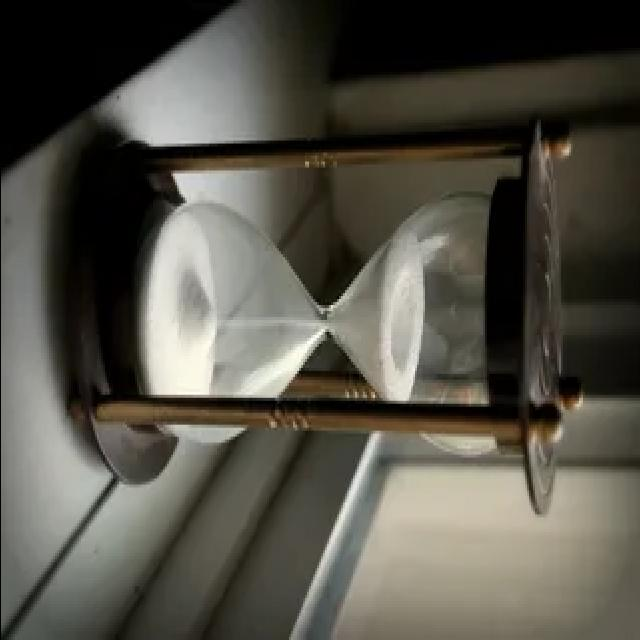clock: (67, 84, 586, 512)
